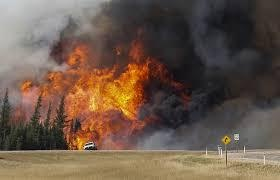fire: (11, 38, 186, 148)
